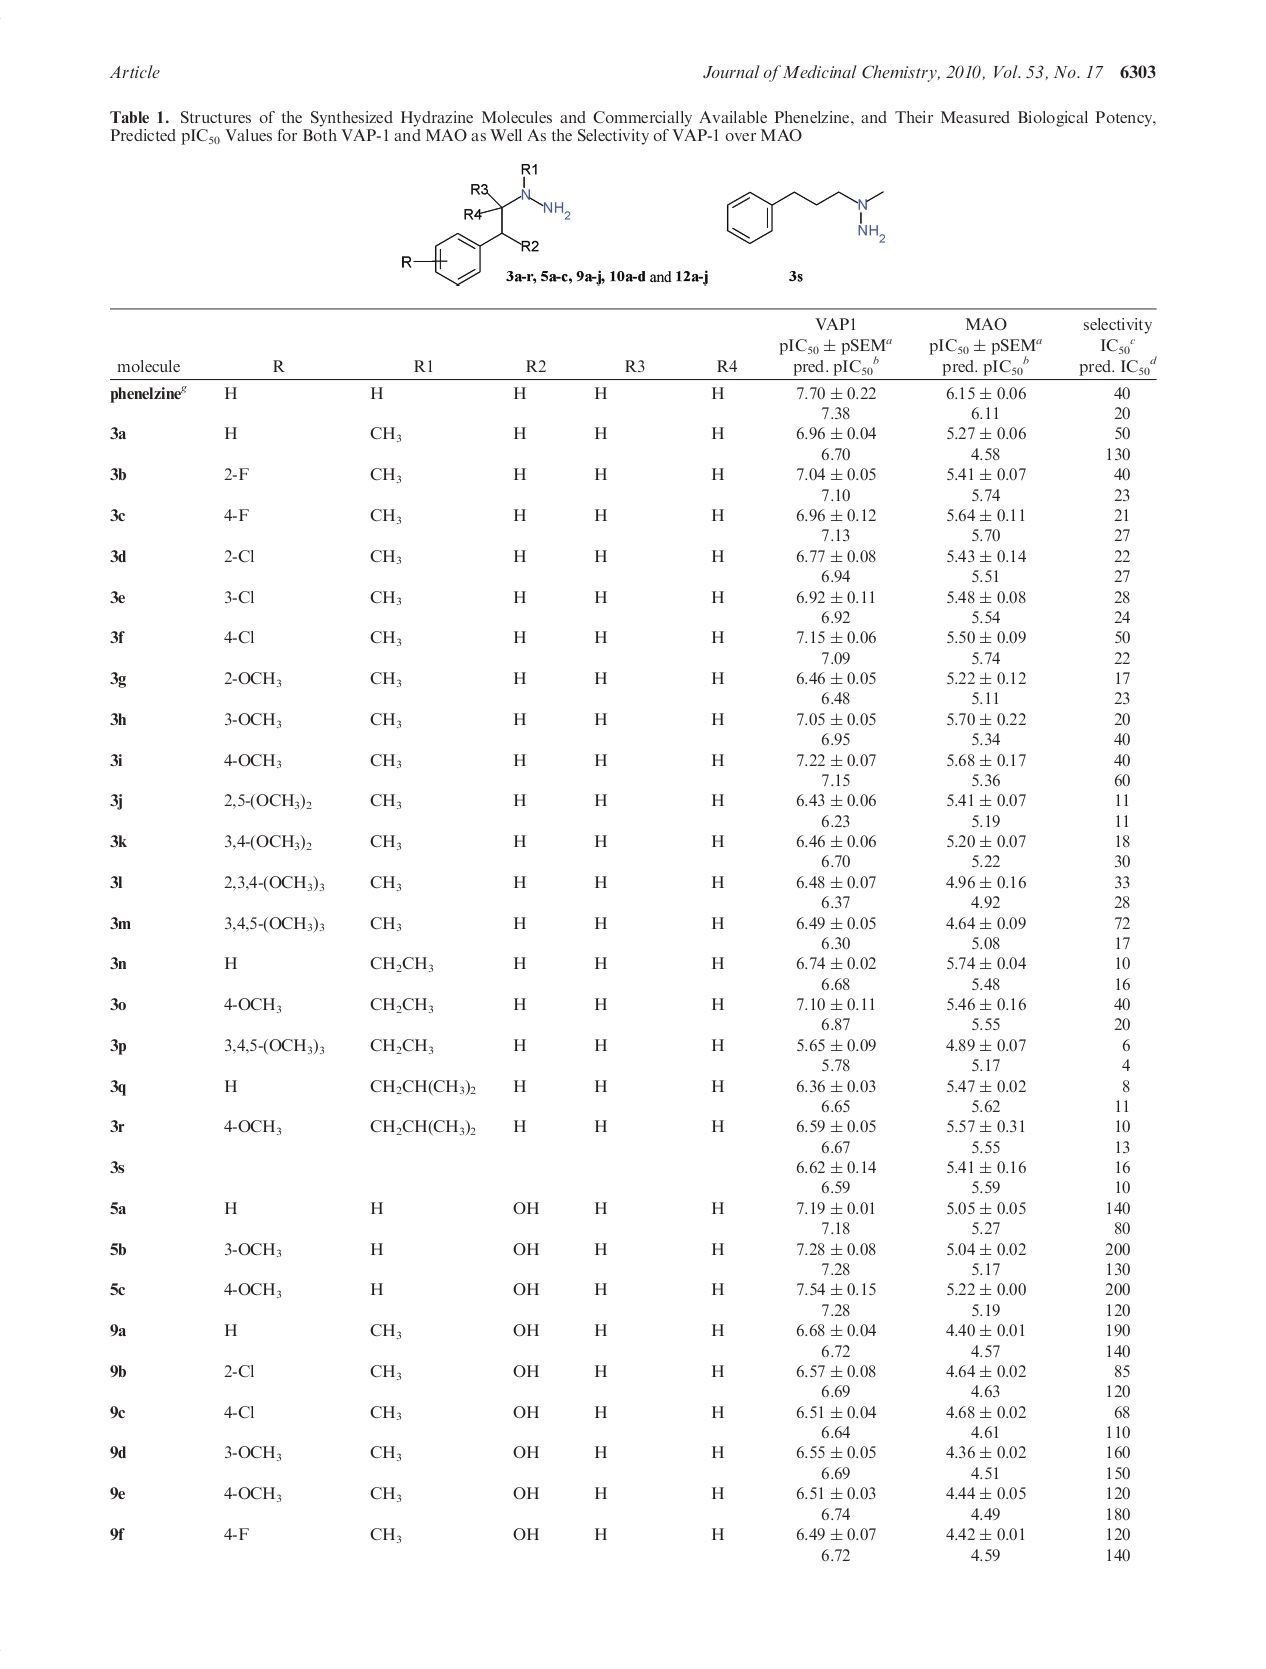exist_molecular: (398, 158, 570, 289), (723, 181, 895, 245)
